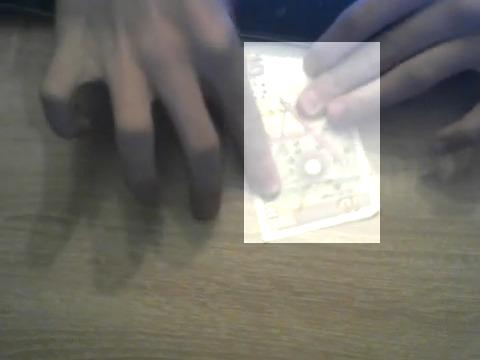10leva: (244, 42, 380, 243)
